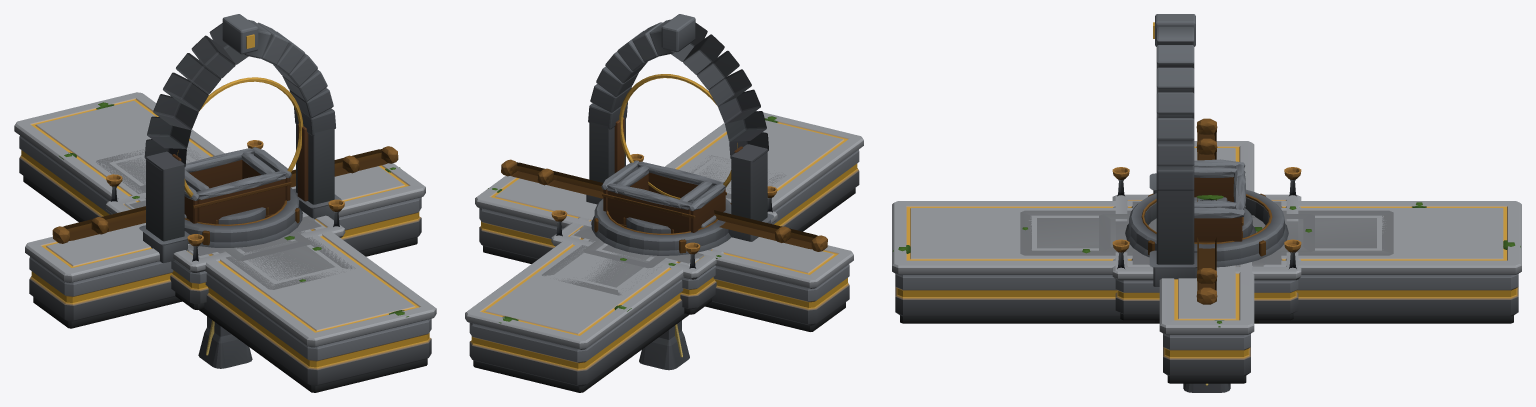
File: temple-1-DtoZZkSk.glb
The picture shows the model from 3 angles, left to right: view 1: azimuth 30°, elevation 25°; view 2: azimuth 150°, elevation 25°; view 3: azimuth 270°, elevation 25°; orthographic projection. The views are drawn at different scales.
Visible parts, largest first — view 1: block_10x2x40#0, portal_#0, block_28x2x6#0, hopper_6x3#0, block_7x2x24#0, pad_12x2x12#0, geyserVent_8#0, mount_12.7#0, support_0_square#0, hopper_4x3#0, block_6x2x14#0, mount_9.7#0 (+1 smaller); view 2: block_10x2x40#0, block_28x2x6#0, portal_#0, hopper_6x3#0, pad_12x2x12#0, geyserVent_8#0, mount_12.7#0, hopper_4x3#0, block_7x2x24#0, support_0_square#0, block_6x2x14#0, mount_9.7#0 (+1 smaller); view 3: block_10x2x40#0, portal_#0, block_28x2x6#0, pad_12x2x12#0, block_7x2x24#0, geyserVent_8#0, hopper_6x3#0, block_6x2x14#0, hopper_4x3#0, mount_12.7#0, mount_9.7#0.
Boxes of the visible parts, x1,y1,x2,y2 form: block_10x2x40#0: [14, 92, 436, 392]; portal_#0: [139, 14, 341, 262]; block_28x2x6#0: [25, 163, 425, 328]; hopper_6x3#0: [184, 147, 291, 224]; block_7x2x24#0: [96, 147, 355, 289]; pad_12x2x12#0: [105, 140, 345, 309]; geyserVent_8#0: [184, 187, 302, 247]; mount_12.7#0: [52, 146, 398, 243]; support_0_square#0: [198, 316, 252, 368]; hopper_4x3#0: [184, 152, 278, 215]; block_6x2x14#0: [139, 185, 311, 260]; mount_9.7#0: [91, 155, 359, 234]; block_10x2x40#0: [465, 110, 863, 392]; block_28x2x6#0: [475, 176, 853, 331]; portal_#0: [586, 14, 774, 241]; hopper_6x3#0: [601, 160, 726, 232]; pad_12x2x12#0: [551, 154, 777, 314]; geyserVent_8#0: [591, 198, 731, 255]; mount_12.7#0: [501, 159, 827, 251]; hopper_4x3#0: [614, 165, 712, 233]; block_7x2x24#0: [542, 155, 786, 295]; support_0_square#0: [639, 320, 689, 370]; block_6x2x14#0: [583, 193, 731, 268]; mount_9.7#0: [537, 168, 791, 242]; block_10x2x40#0: [892, 201, 1521, 323]; portal_#0: [1149, 14, 1197, 286]; block_28x2x6#0: [1159, 141, 1254, 383]; pad_12x2x12#0: [1112, 167, 1301, 320]; block_7x2x24#0: [1020, 210, 1393, 255]; geyserVent_8#0: [1125, 189, 1288, 267]; hopper_6x3#0: [1194, 159, 1245, 242]; block_6x2x14#0: [1099, 214, 1314, 252]; hopper_4x3#0: [1194, 167, 1245, 208]; mount_12.7#0: [1196, 118, 1217, 304]; mount_9.7#0: [1196, 138, 1217, 283].
Size of the model in its own units: 28 by 25.59 by 40.
